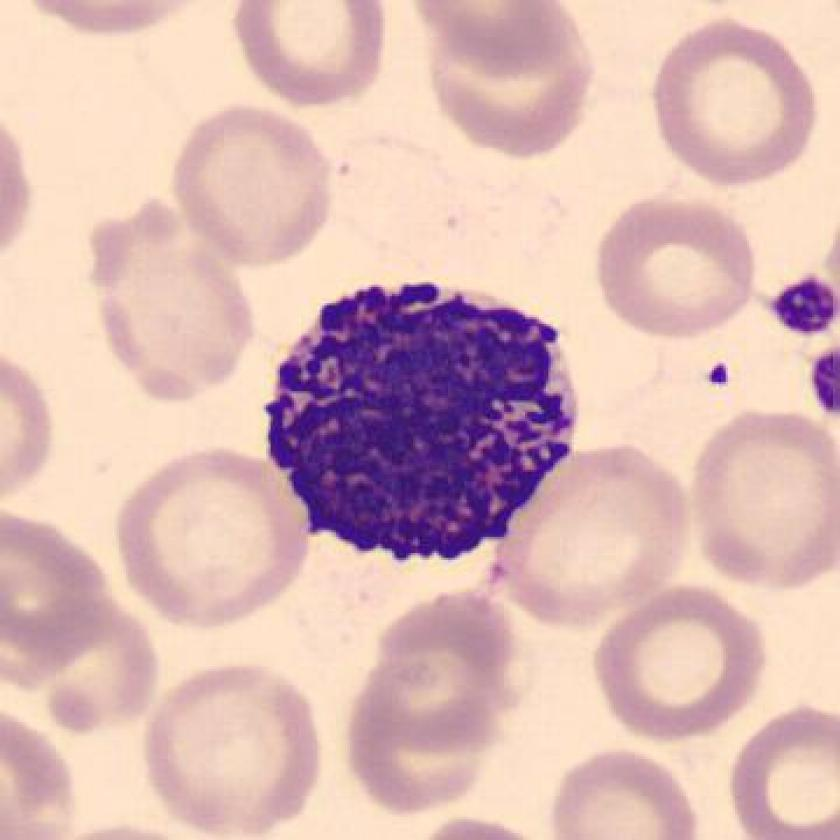basophil: (258, 279, 587, 575)
